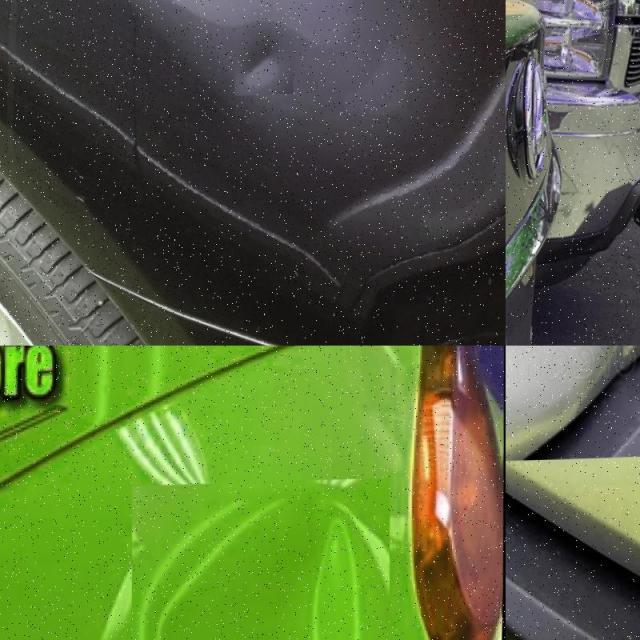car damage: (126, 469, 373, 632), (522, 173, 640, 317), (237, 30, 286, 94)
